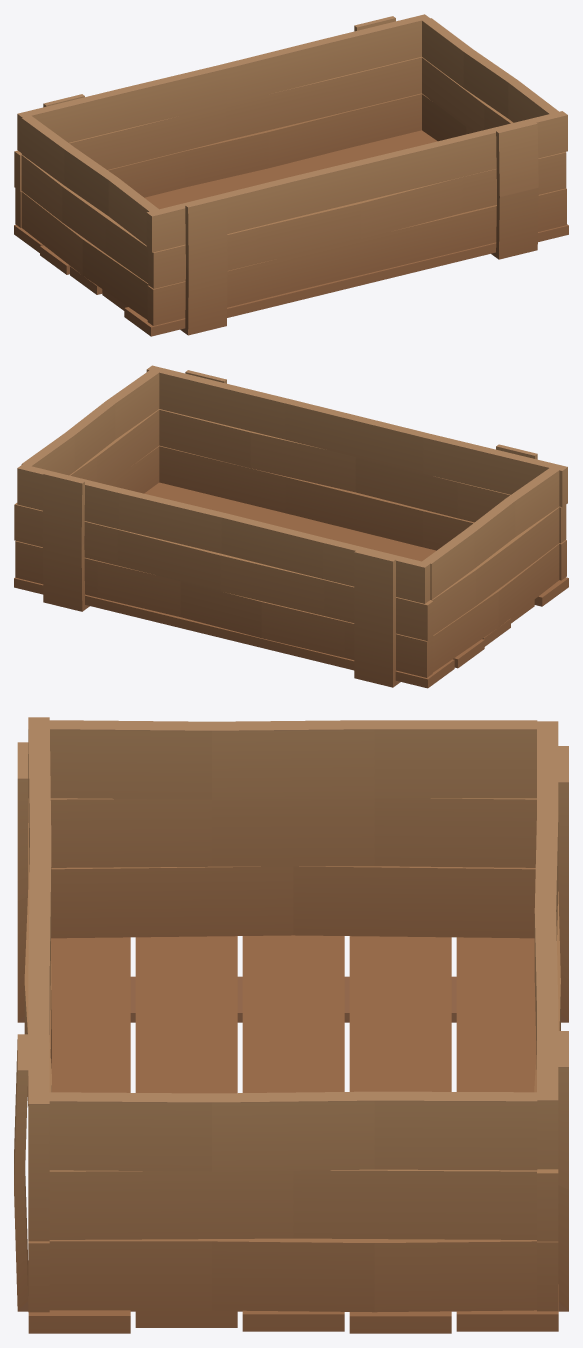
The picture shows the model from 3 angles, top to bottom: view 1: azimuth 30°, elevation 25°; view 2: azimuth 150°, elevation 25°; view 3: azimuth 270°, elevation 25°; orthographic projection. The views are drawn at different scales.
Visible parts, largest first — view 1: SM_Box_01; view 2: SM_Box_01; view 3: SM_Box_01.
Boxes of the visible parts, left/top/right/bottom form: SM_Box_01: left=14, top=14, right=568, bottom=336; SM_Box_01: left=14, top=365, right=568, bottom=688; SM_Box_01: left=14, top=717, right=568, bottom=1333.
Bounding box in the file's own units: 75.33 × 22.09 × 45.45.
